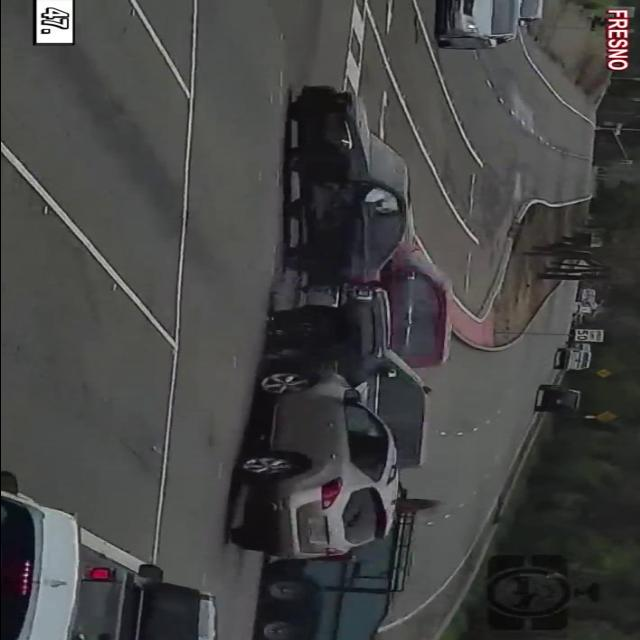accident: (221, 284, 449, 572), (247, 79, 441, 281)
